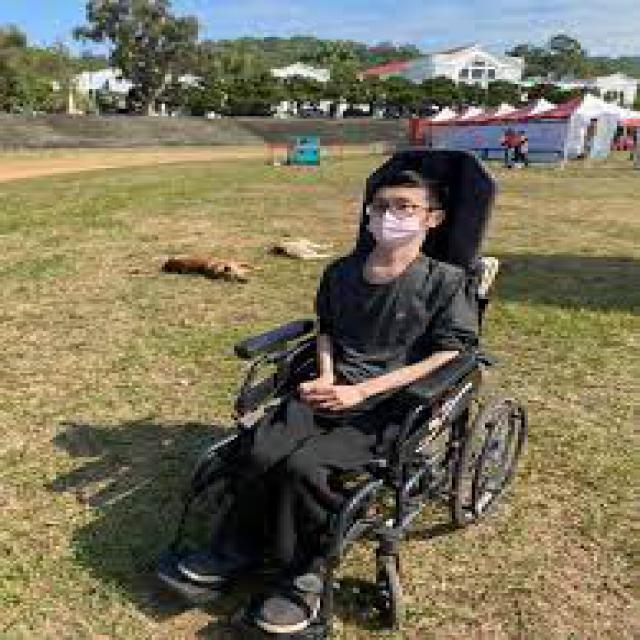wheelchairs: (224, 244, 538, 630)
